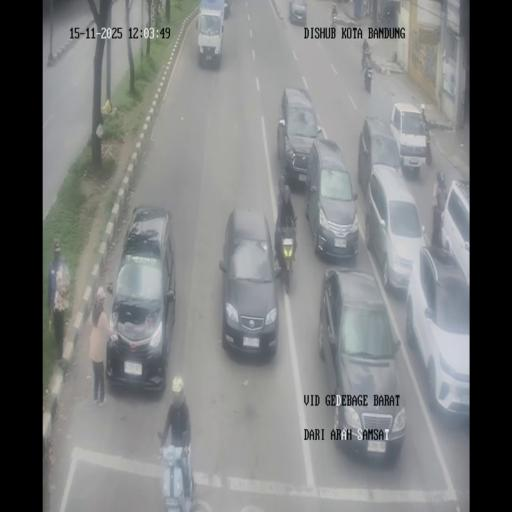car: (320, 270, 403, 458), (105, 205, 176, 390), (405, 243, 469, 423), (218, 208, 280, 356), (366, 166, 424, 295), (307, 136, 359, 262), (278, 87, 321, 187), (389, 102, 429, 176), (288, 0, 308, 25), (222, 0, 232, 17)
motorcycle: (159, 437, 195, 509), (274, 219, 298, 291), (361, 51, 368, 71), (385, 8, 392, 24), (362, 0, 368, 17), (332, 10, 337, 27)
truck: (197, 1, 226, 68)
